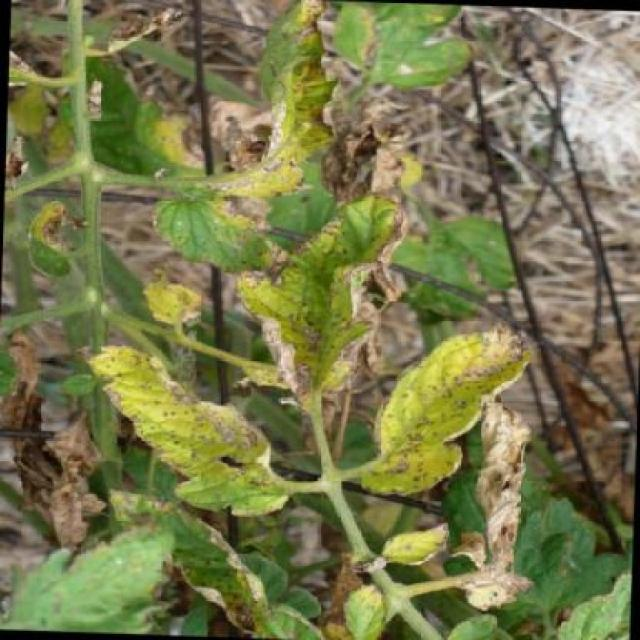Septoria leaf spot: (118, 0, 345, 268), (61, 332, 312, 523), (227, 193, 416, 399), (343, 322, 514, 503)
